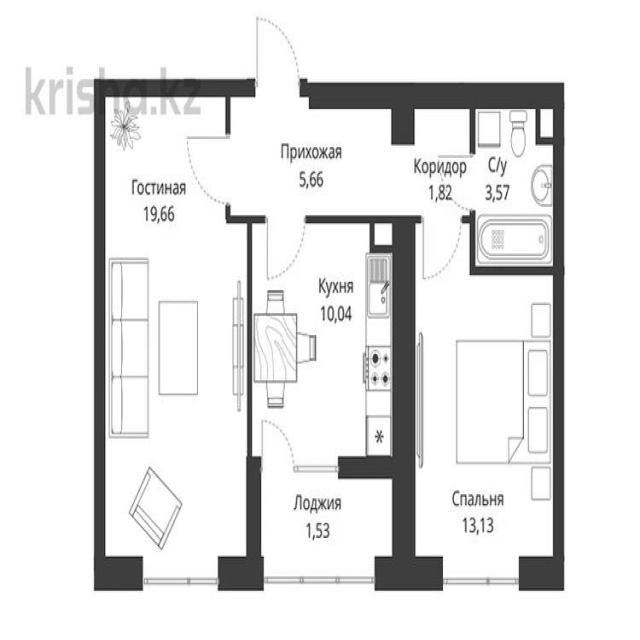balcony: (255, 468, 398, 576)
bathroom: (473, 103, 556, 272)
hallway: (250, 92, 398, 211)
kitchen: (251, 224, 395, 463)
living_room: (102, 86, 248, 570), (410, 272, 562, 574)
